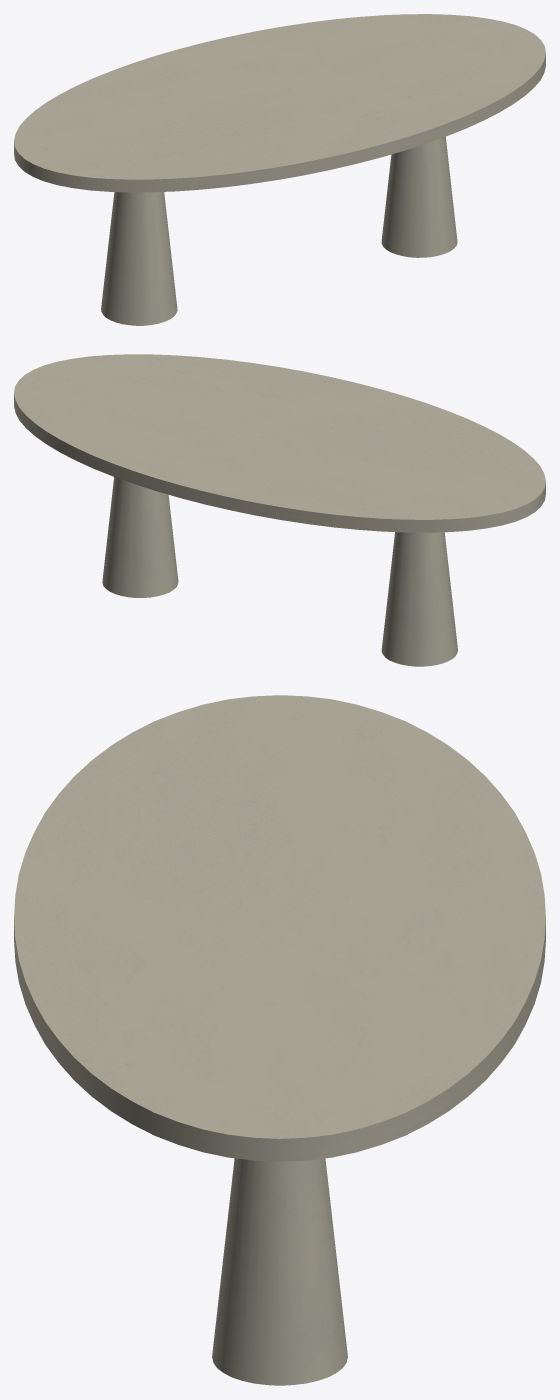
Rendered from silk_ellips_standard_pebble.glb.
3 views of the same model, one above another, from view 1: azimuth 30°, elevation 25°; view 2: azimuth 150°, elevation 25°; view 3: azimuth 270°, elevation 25° (orthographic). The views are drawn at different scales.
Visible parts, largest first — view 1: silk_ellipsstandard_pebble; view 2: silk_ellipsstandard_pebble; view 3: silk_ellipsstandard_pebble.
Part boxes in pixels (box(x1,y1,x2,y2)): silk_ellipsstandard_pebble: box(14, 14, 545, 325); silk_ellipsstandard_pebble: box(14, 354, 545, 666); silk_ellipsstandard_pebble: box(14, 695, 545, 1385).
Size of the model in its own units: 7.5 by 2.51 by 3.8.
Materials: 1 (1 with a texture image).
